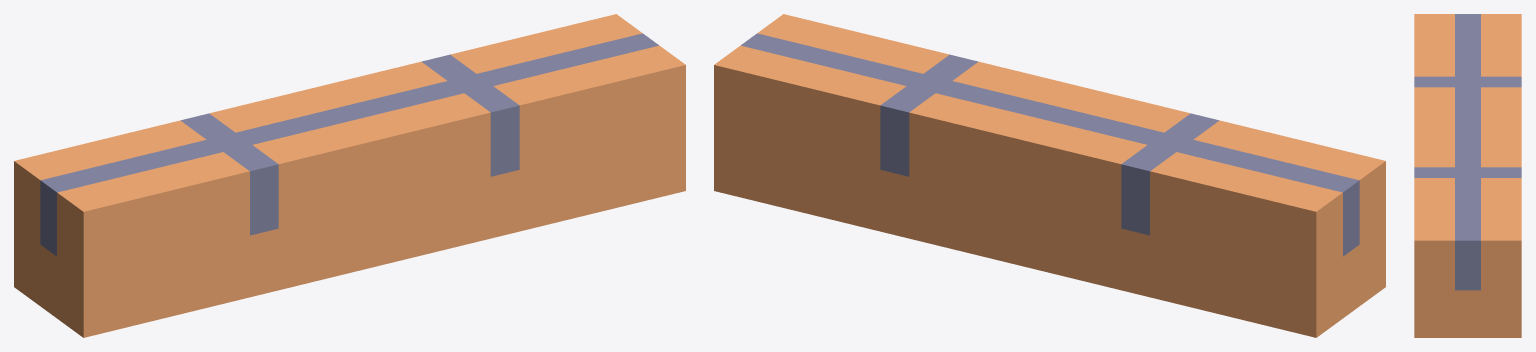
3 views of the same model, side by side, from view 1: azimuth 30°, elevation 25°; view 2: azimuth 150°, elevation 25°; view 3: azimuth 270°, elevation 25° (orthographic). The views are drawn at different scales.
Visible parts, largest first — view 1: Box5x1, Box5x1.lid.2, Box5x1.lid.1; view 2: Box5x1, Box5x1.lid.1, Box5x1.lid.2; view 3: Box5x1.lid.1, Box5x1.lid.2, Box5x1.
Part boxes in pixels (bbox=[...]): Box5x1: bbox=[14, 67, 685, 337]; Box5x1.lid.2: bbox=[48, 39, 685, 214]; Box5x1.lid.1: bbox=[14, 14, 650, 188]; Box5x1: bbox=[714, 67, 1385, 337]; Box5x1.lid.1: bbox=[714, 39, 1351, 214]; Box5x1.lid.2: bbox=[749, 14, 1385, 188]; Box5x1.lid.1: bbox=[1468, 14, 1521, 242]; Box5x1.lid.2: bbox=[1414, 14, 1467, 242]; Box5x1: bbox=[1414, 242, 1521, 337].
Bounding box in the file's own units: 500 × 100 × 100.
